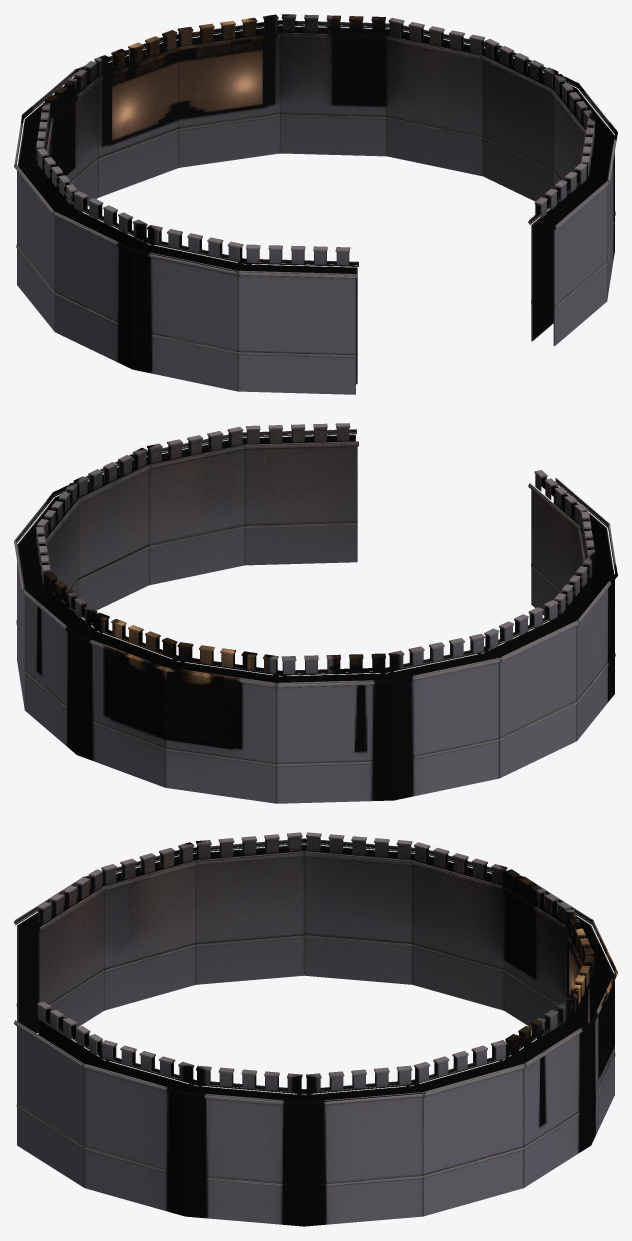
Rendered from ring_wall_skin.glb.
3 views of the same model, one above another, from view 1: azimuth 30°, elevation 25°; view 2: azimuth 150°, elevation 25°; view 3: azimuth 270°, elevation 25° (orthographic). The views are drawn at different scales.
Visible parts, largest first — view 1: ring_wall_skin.001; view 2: ring_wall_skin.001; view 3: ring_wall_skin.001.
Part boxes in pixels (bbox=[...]): ring_wall_skin.001: bbox=[14, 14, 617, 394]; ring_wall_skin.001: bbox=[14, 423, 617, 803]; ring_wall_skin.001: bbox=[14, 832, 617, 1226].
Bounding box in the file's own units: 39.33 × 9.7 × 37.86.
Materials: 1 (1 with a texture image).
